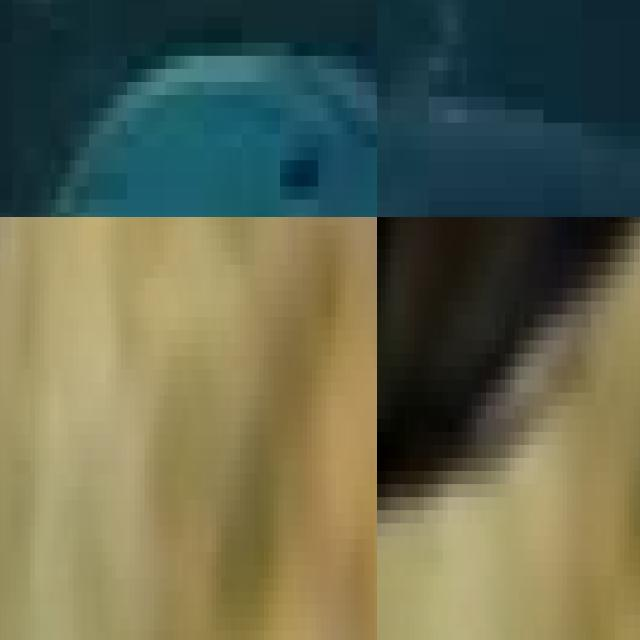fish: (0, 217, 302, 640), (0, 0, 377, 217)
